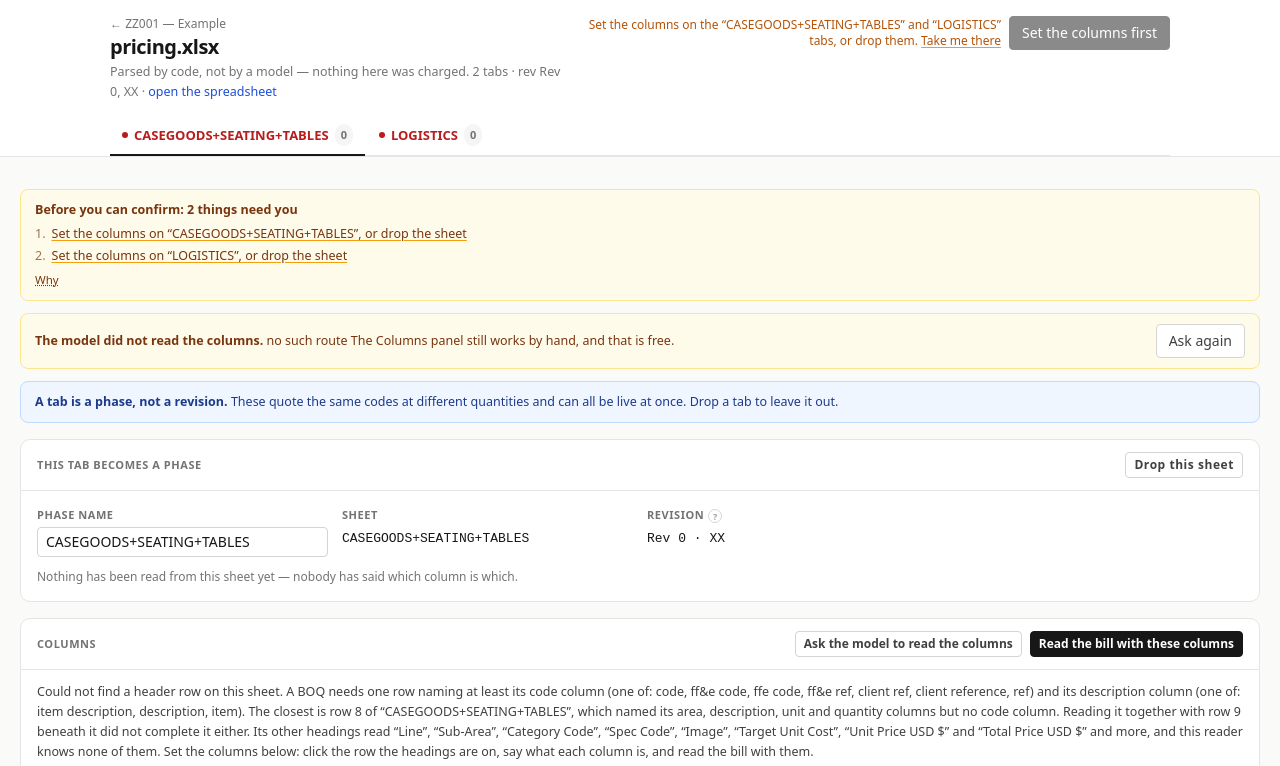
it: the bill review › opens on the Columns panel for a bill nobody could read, and will not confirm it
Expected: the tab "CASEGOODS+SEATING+TABLES 0" is shown, [110,116,365,156]
Click the button "Why". click: (47, 280)
box: [35,270,59,290]
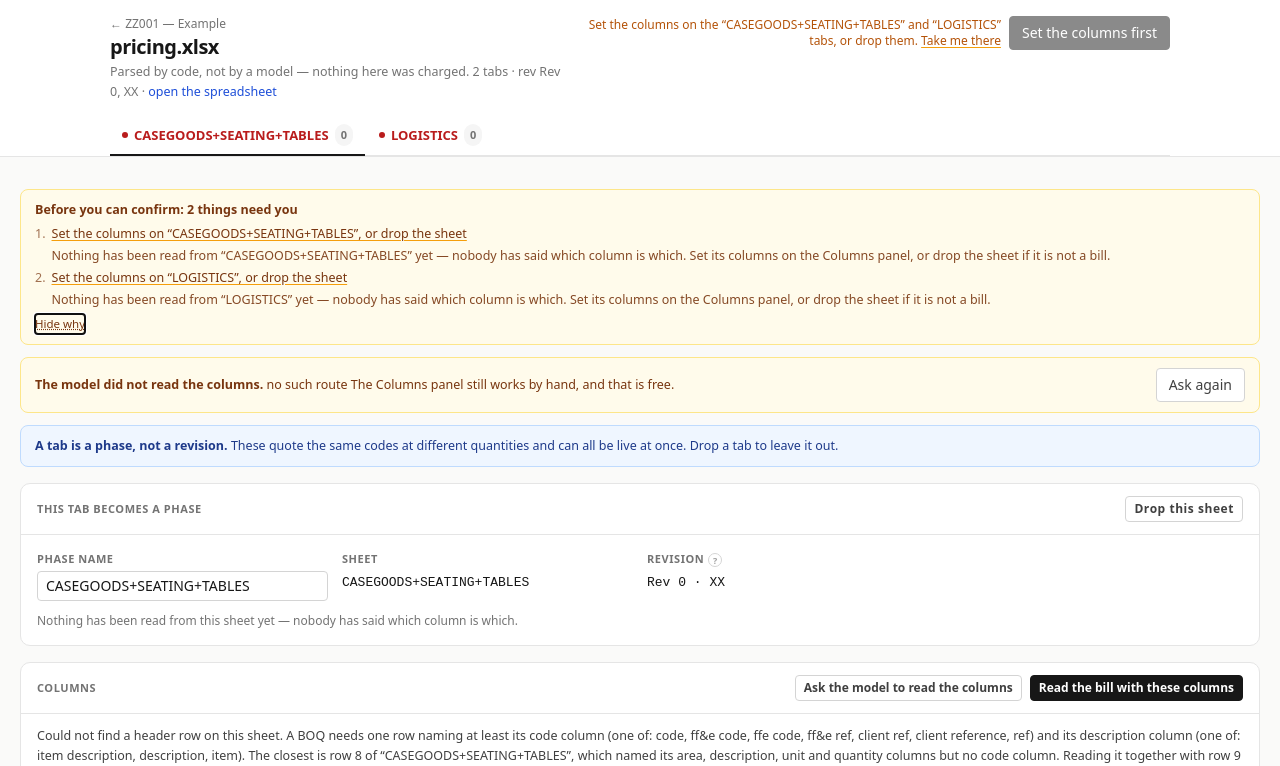
Expected: the button "Set the columns first" is disabled, [1009,16,1170,50]
Result: the text "nobody has said which column is which" is shown at [52,247,1110,264]
